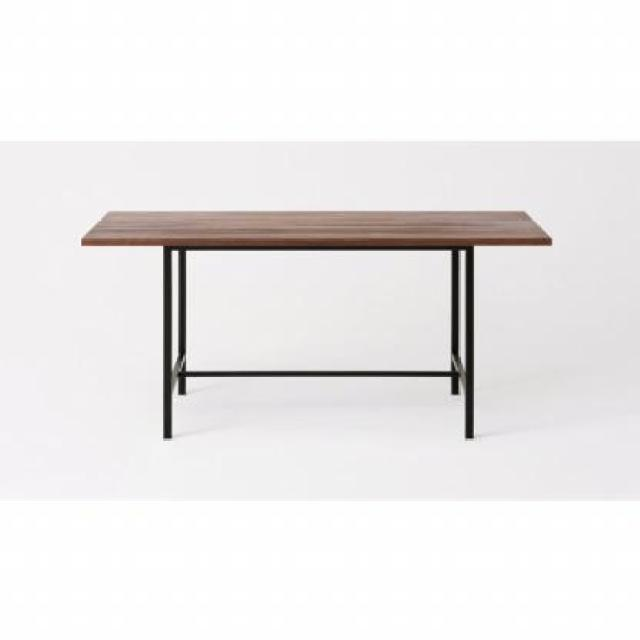tables: (79, 208, 552, 440)
